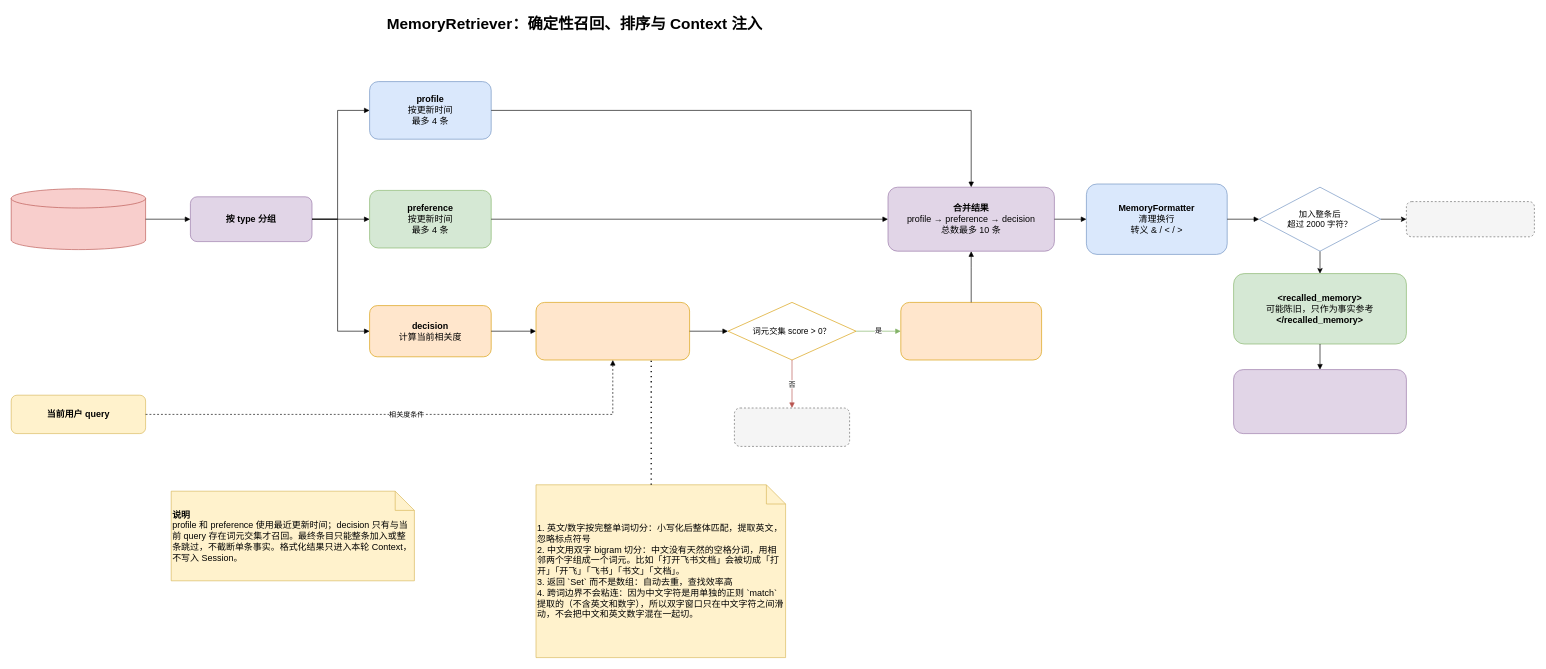
This 1546x669 diagram has some shape labels left out. Each missing label, with the centre of its shape:
ContextManager 追加到 System Prompt 统一计算 Token: pixel 1319 401
MemoryStore.list 读取最近 100 条: pixel 78 219
query 与 key + content 分词 ASCII 单词 + 中文双字: pixel 612 331
score = 0 不召回: pixel 792 426
score ↓ / updatedAt ↓ / id ↑ 最多 3 条: pixel 971 331
超过：跳过整条: pixel 1470 219
